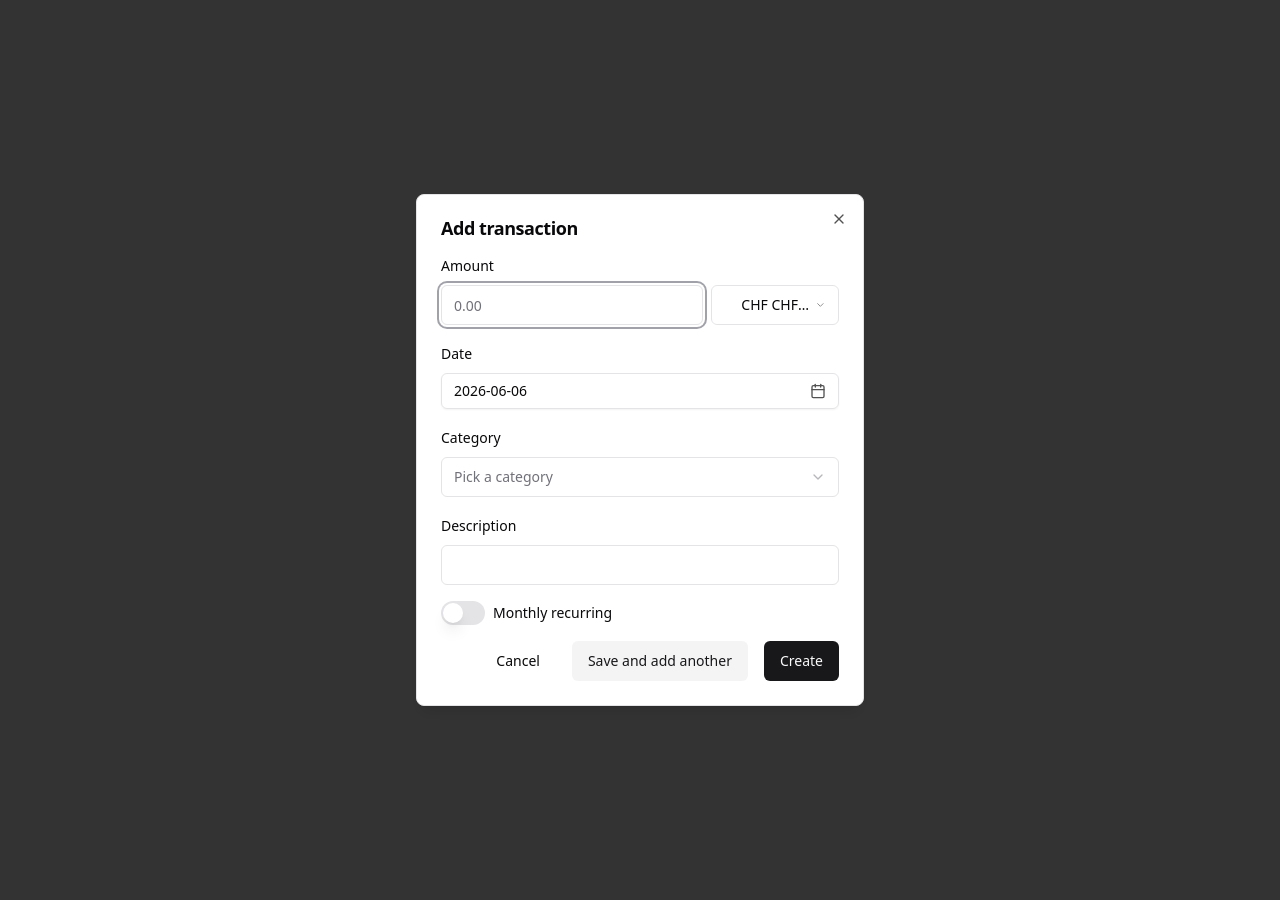
TransactionFormDialog — create flow › Save and add another keeps dialog open, clears amount, retains category
This screenshot has width=1280, height=900.
Expected: the dropdown named "currency" shows "CHF", [711,285,839,325]
Step 1. Type "12.50" into the field labelled "Amount" → [572, 305], box [441,285,703,325]
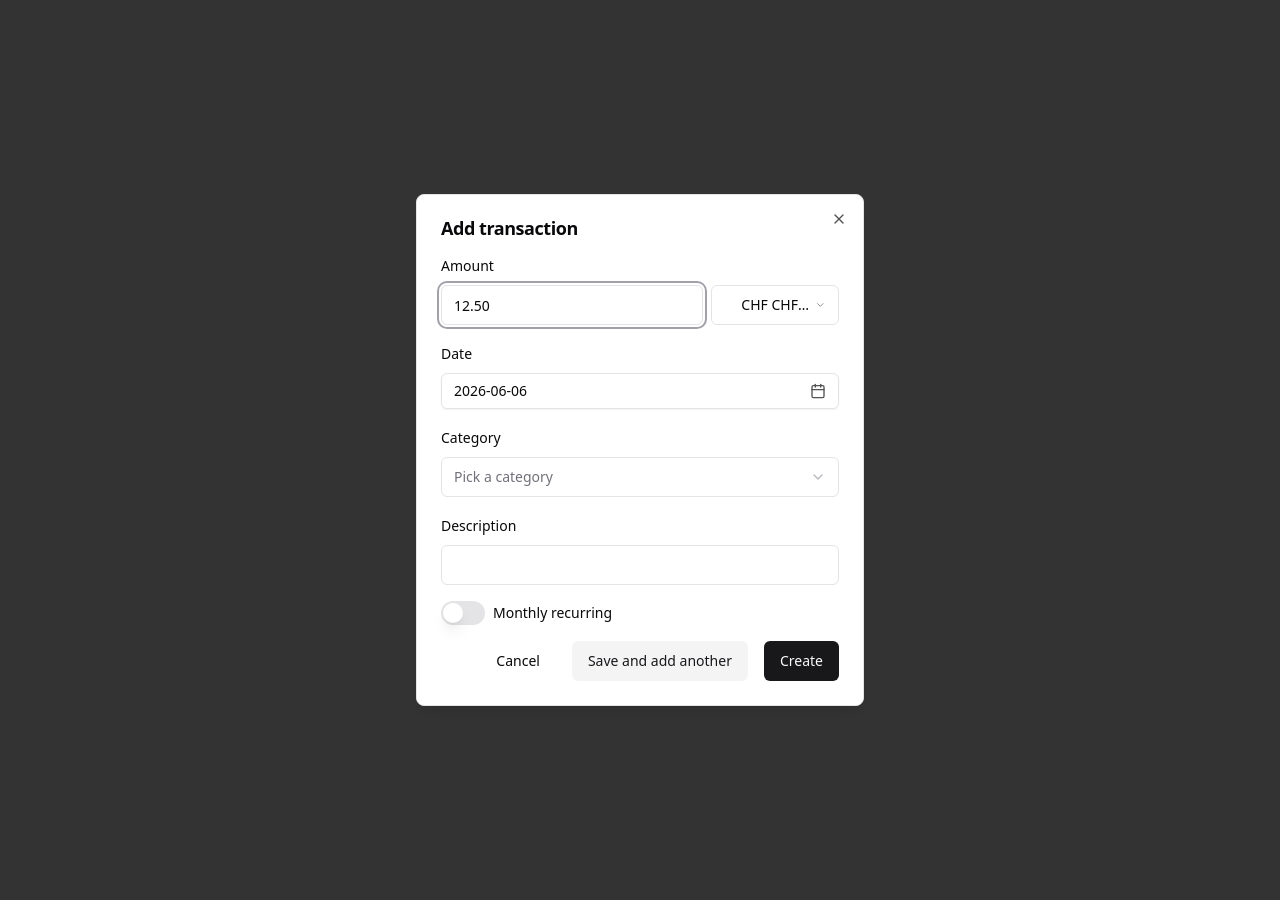
Note: Radix Select requires fireEvent (userEvent triggers pointer events that jsdom doesn't support)
Step 2. Click the dropdown labelled "Pick a category" → [503, 476], box [441,457,839,497]
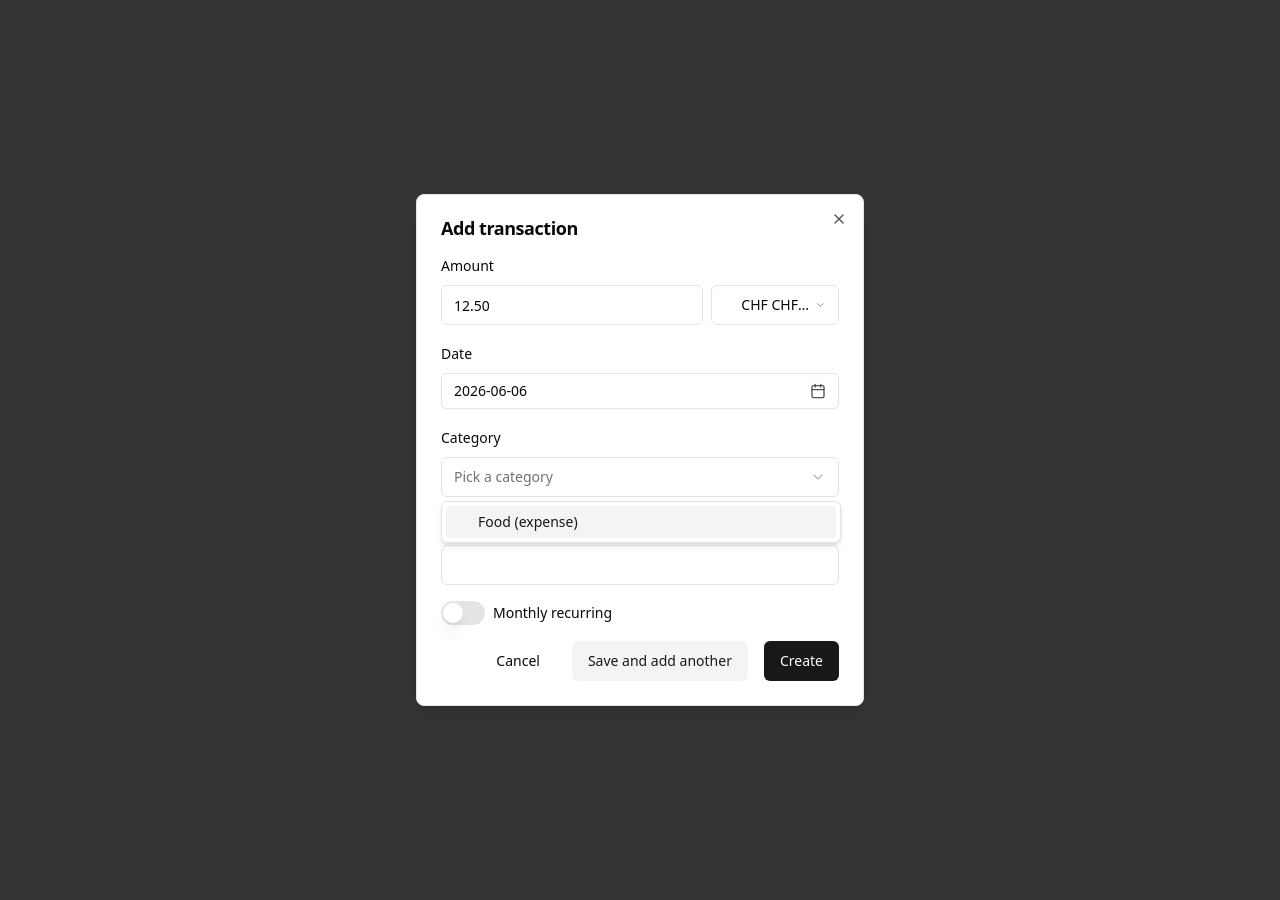
Step 3. Click the option "Food (expense)" → [494, 522], box [446,506,836,538]
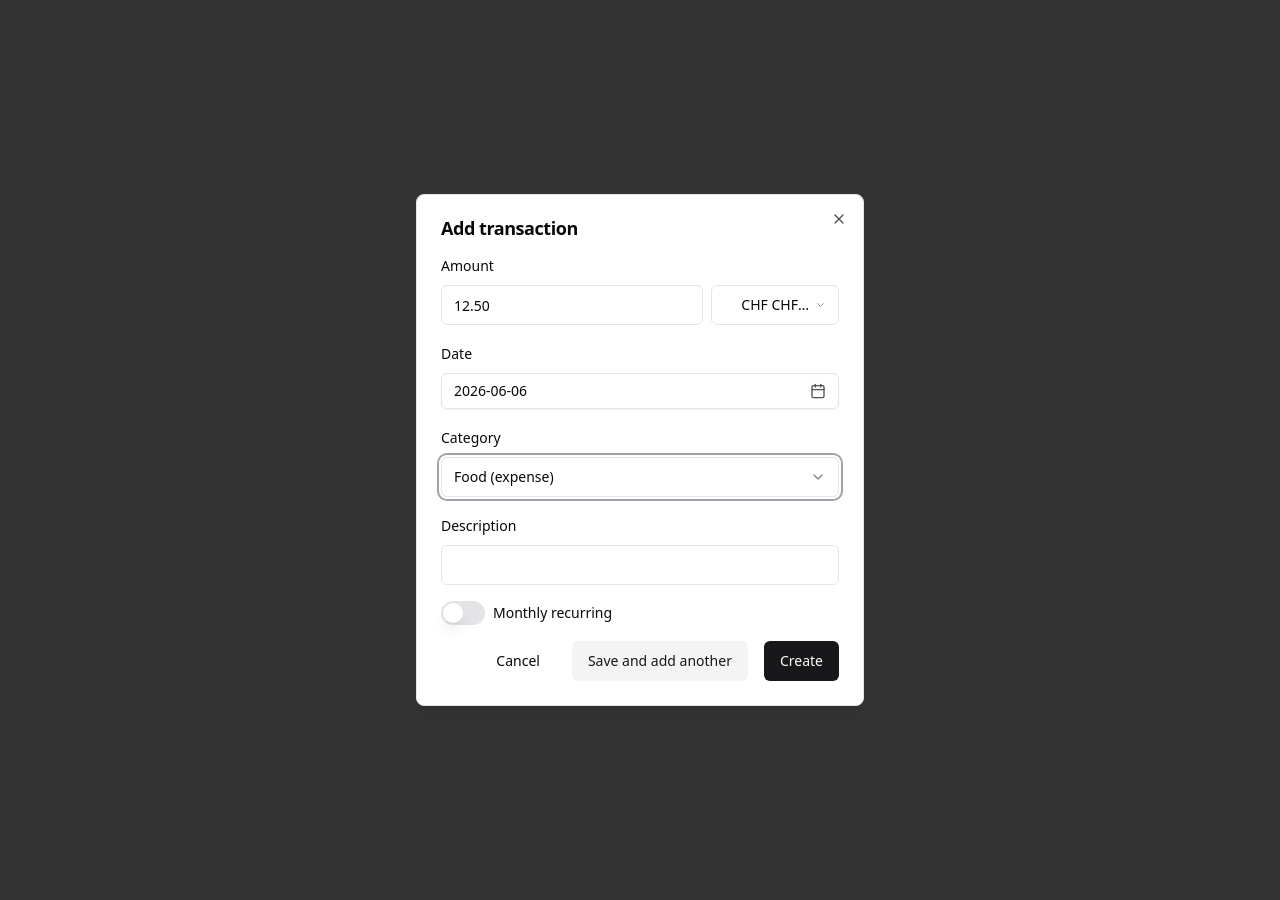
Step 4. Type "lunch" into the field labelled "Description" → [640, 565], box [441,545,839,585]
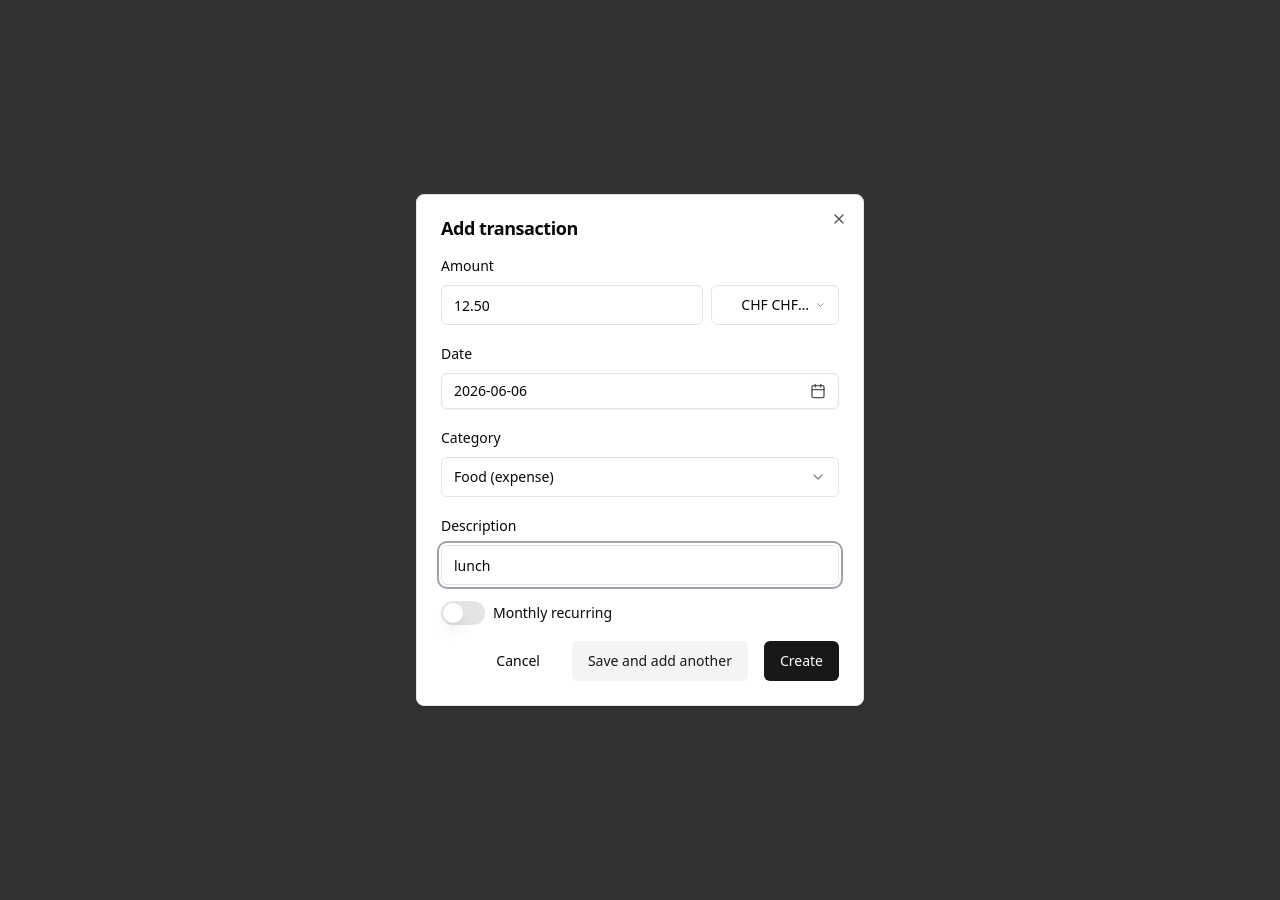
Step 5. Click the button "Save and add another" → [660, 661], box [572,641,748,681]
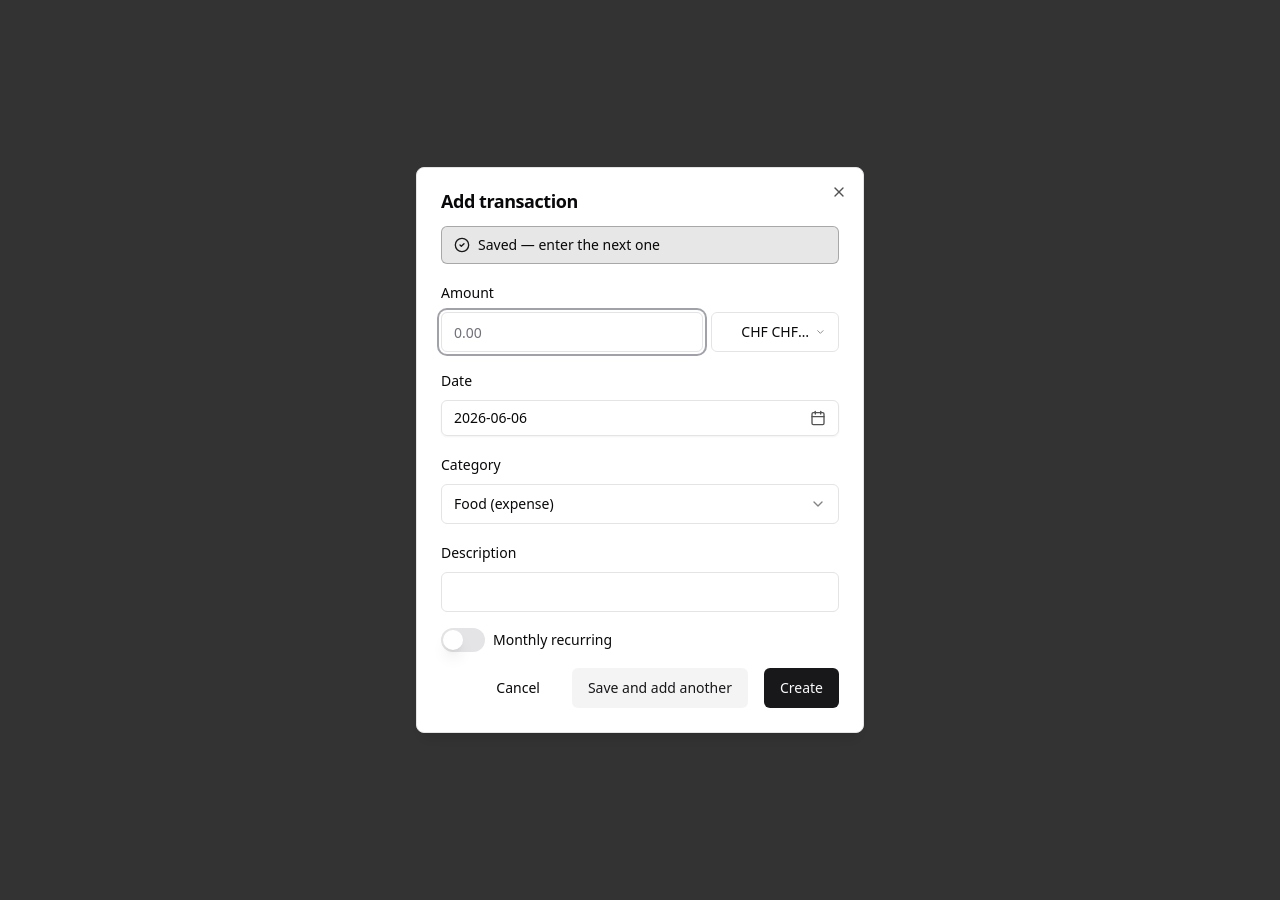
Result: the field labelled "Amount" is empty at [441,312,703,352]
Result: the text "Saved — enter the next one" is shown at [478,235,660,255]
